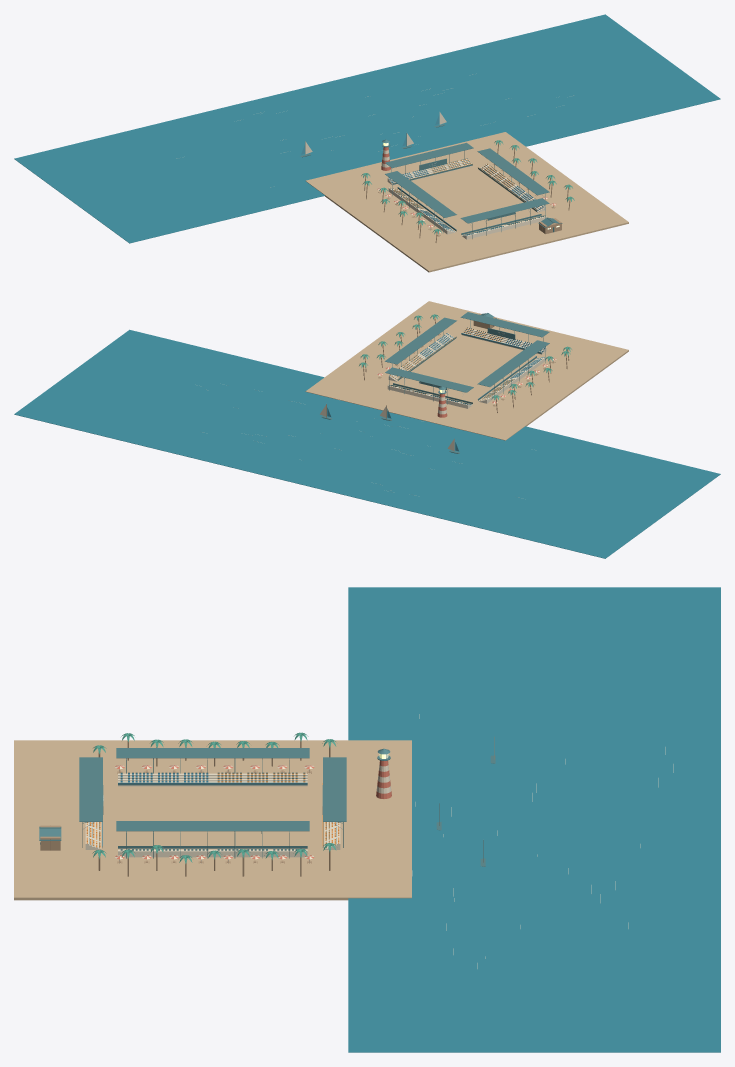
File: coast.glb
3 views of the same model, one above another, from view 1: azimuth 30°, elevation 25°; view 2: azimuth 150°, elevation 25°; view 3: azimuth 270°, elevation 25° (orthographic). The views are drawn at different scales.
Parts seen in each view (by area): view 1: coast_Atlantic_teal, coast_Scenery_ground, coast_Venue_structural_steel, coast_Pale_stone_or_snow, coast_Timber_or_panel_substrate, coast_Foliage_or_secondary_panels; view 2: coast_Atlantic_teal, coast_Scenery_ground, coast_Venue_structural_steel, coast_Pale_stone_or_snow, coast_Timber_or_panel_substrate, coast_Foliage_or_secondary_panels; view 3: coast_Atlantic_teal, coast_Scenery_ground, coast_Venue_structural_steel, coast_Pale_stone_or_snow, coast_Foliage_or_secondary_panels, coast_Timber_or_panel_substrate, coast_Orange_end_seating.
Part boxes in pixels (left/top/right/bottom): coast_Atlantic_teal: left=14, top=14, right=720, bottom=243; coast_Scenery_ground: left=305, top=132, right=628, bottom=272; coast_Venue_structural_steel: left=300, top=124, right=562, bottom=238; coast_Pale_stone_or_snow: left=176, top=74, right=573, bottom=239; coast_Timber_or_panel_substrate: left=305, top=133, right=570, bottom=242; coast_Foliage_or_secondary_panels: left=361, top=140, right=574, bottom=234; coast_Atlantic_teal: left=14, top=329, right=720, bottom=558; coast_Scenery_ground: left=305, top=301, right=628, bottom=440; coast_Venue_structural_steel: left=321, top=312, right=549, bottom=453; coast_Pale_stone_or_snow: left=203, top=328, right=556, bottom=497; coast_Timber_or_panel_substrate: left=326, top=313, right=569, bottom=418; coast_Foliage_or_secondary_panels: left=359, top=314, right=571, bottom=400; coast_Atlantic_teal: left=348, top=587, right=720, bottom=1052; coast_Scenery_ground: left=14, top=740, right=411, bottom=900; coast_Venue_structural_steel: left=39, top=748, right=495, bottom=866; coast_Pale_stone_or_snow: left=85, top=714, right=673, bottom=968; coast_Foliage_or_secondary_panels: left=92, top=732, right=336, bottom=863; coast_Timber_or_panel_substrate: left=40, top=737, right=494, bottom=876; coast_Orange_end_seating: left=86, top=773, right=339, bottom=848.
Bounding box in the file's own units: 650 × 33 × 418.
